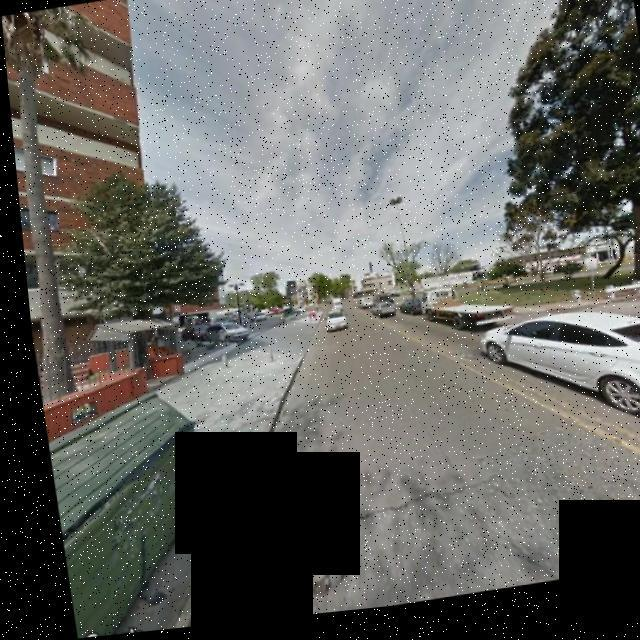bin: (34, 373, 226, 639)
